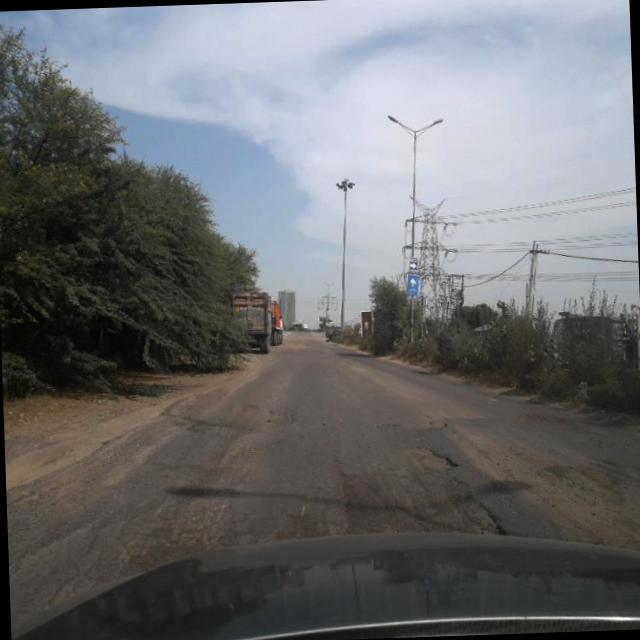crack: (124, 438, 276, 546)
pothole: (510, 419, 640, 543), (319, 450, 499, 534), (34, 505, 138, 612), (419, 441, 466, 474), (240, 396, 287, 428), (386, 414, 449, 433)
